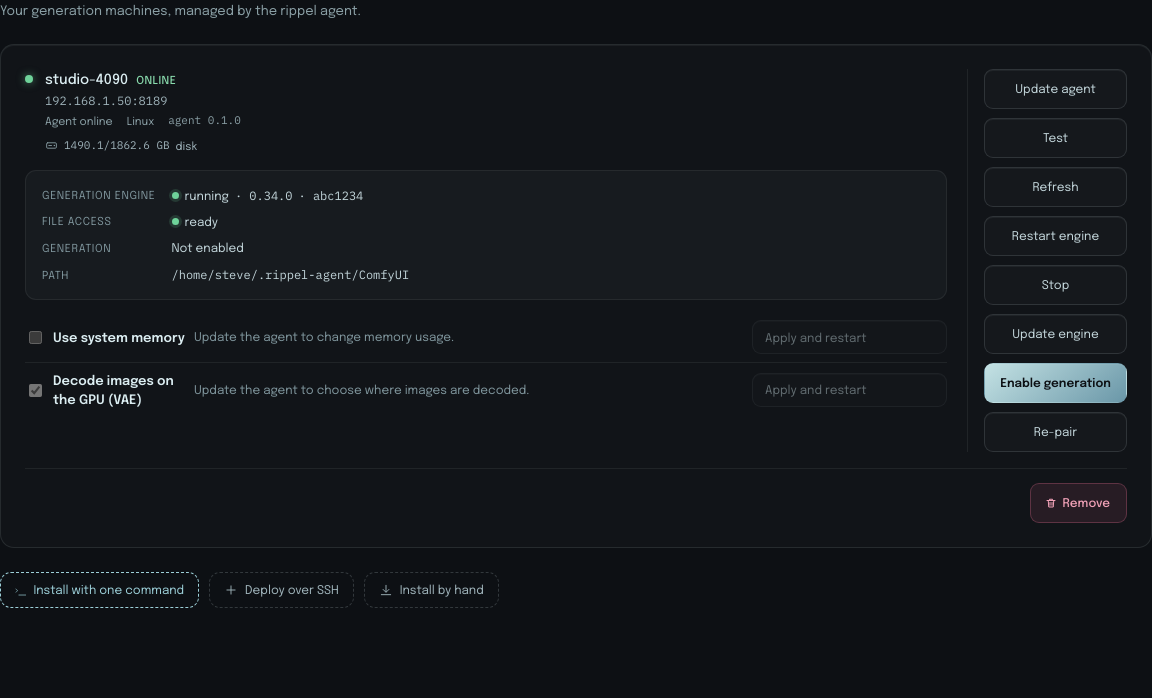
Test: DeploymentsSection › re-pairs a connected machine with a fresh code, keeping it the same machine
The width and height of the screenshot is (1152, 698).
Expected: the text "studio-4090" is shown, [45,71,128,86]
Click the button "Re-pair": (1056, 432) [984,412,1127,452]
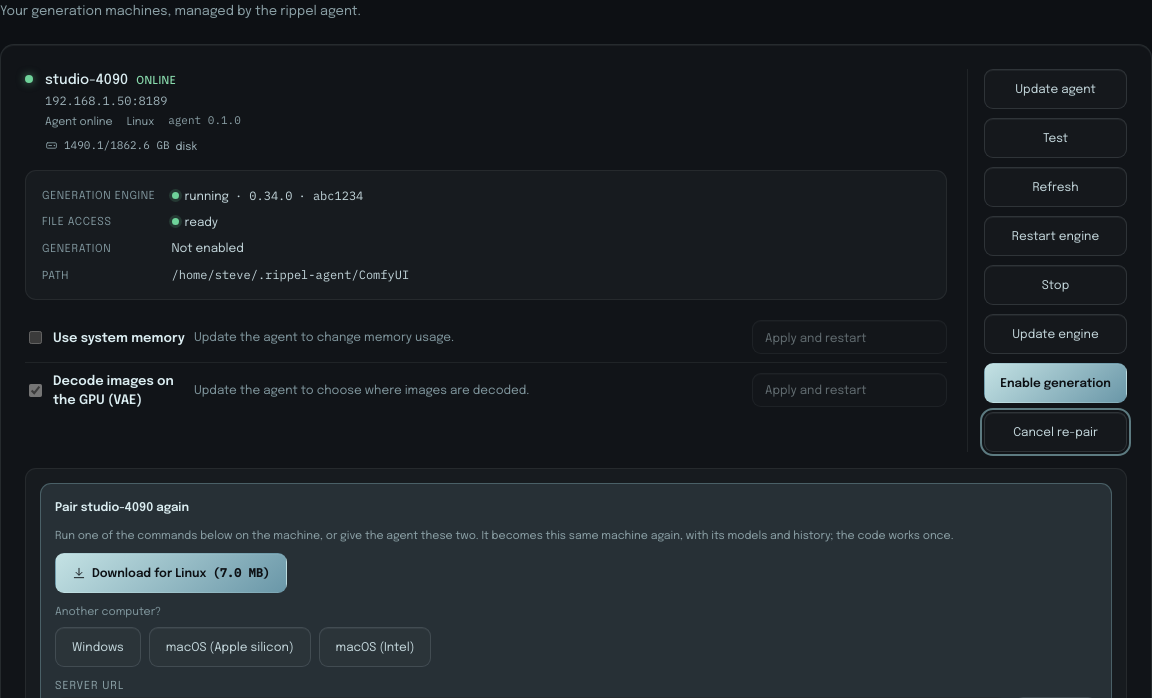
Expected: the heading "Pair studio-4090 again" is shown, [55,498,189,516]
Click the button "Cancel re-pair": (1056, 432) [984,412,1127,452]
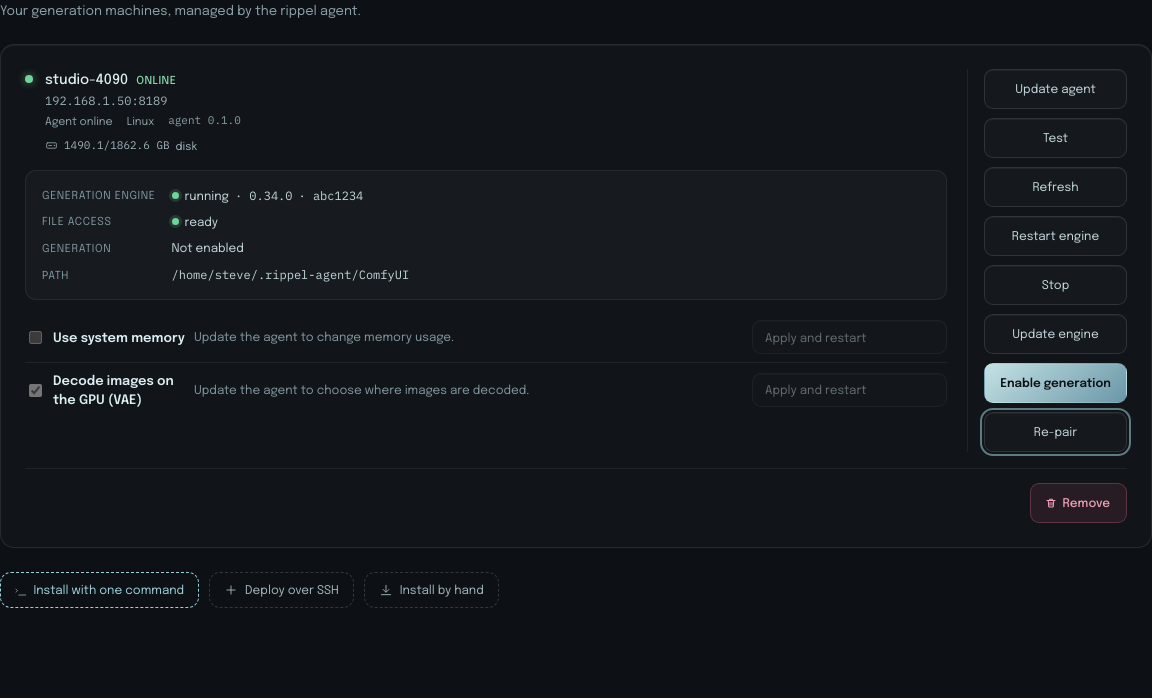
Expected: the heading "Pair studio-4090 again" is gone
